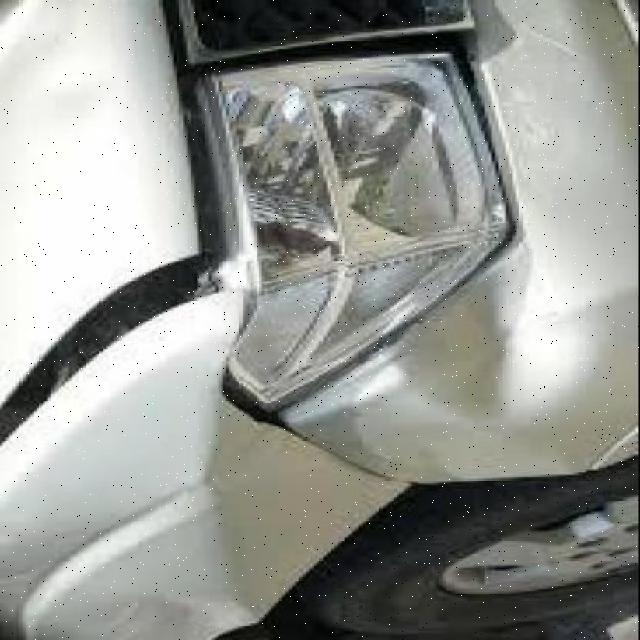damage: (204, 228, 609, 617), (4, 240, 239, 450)
